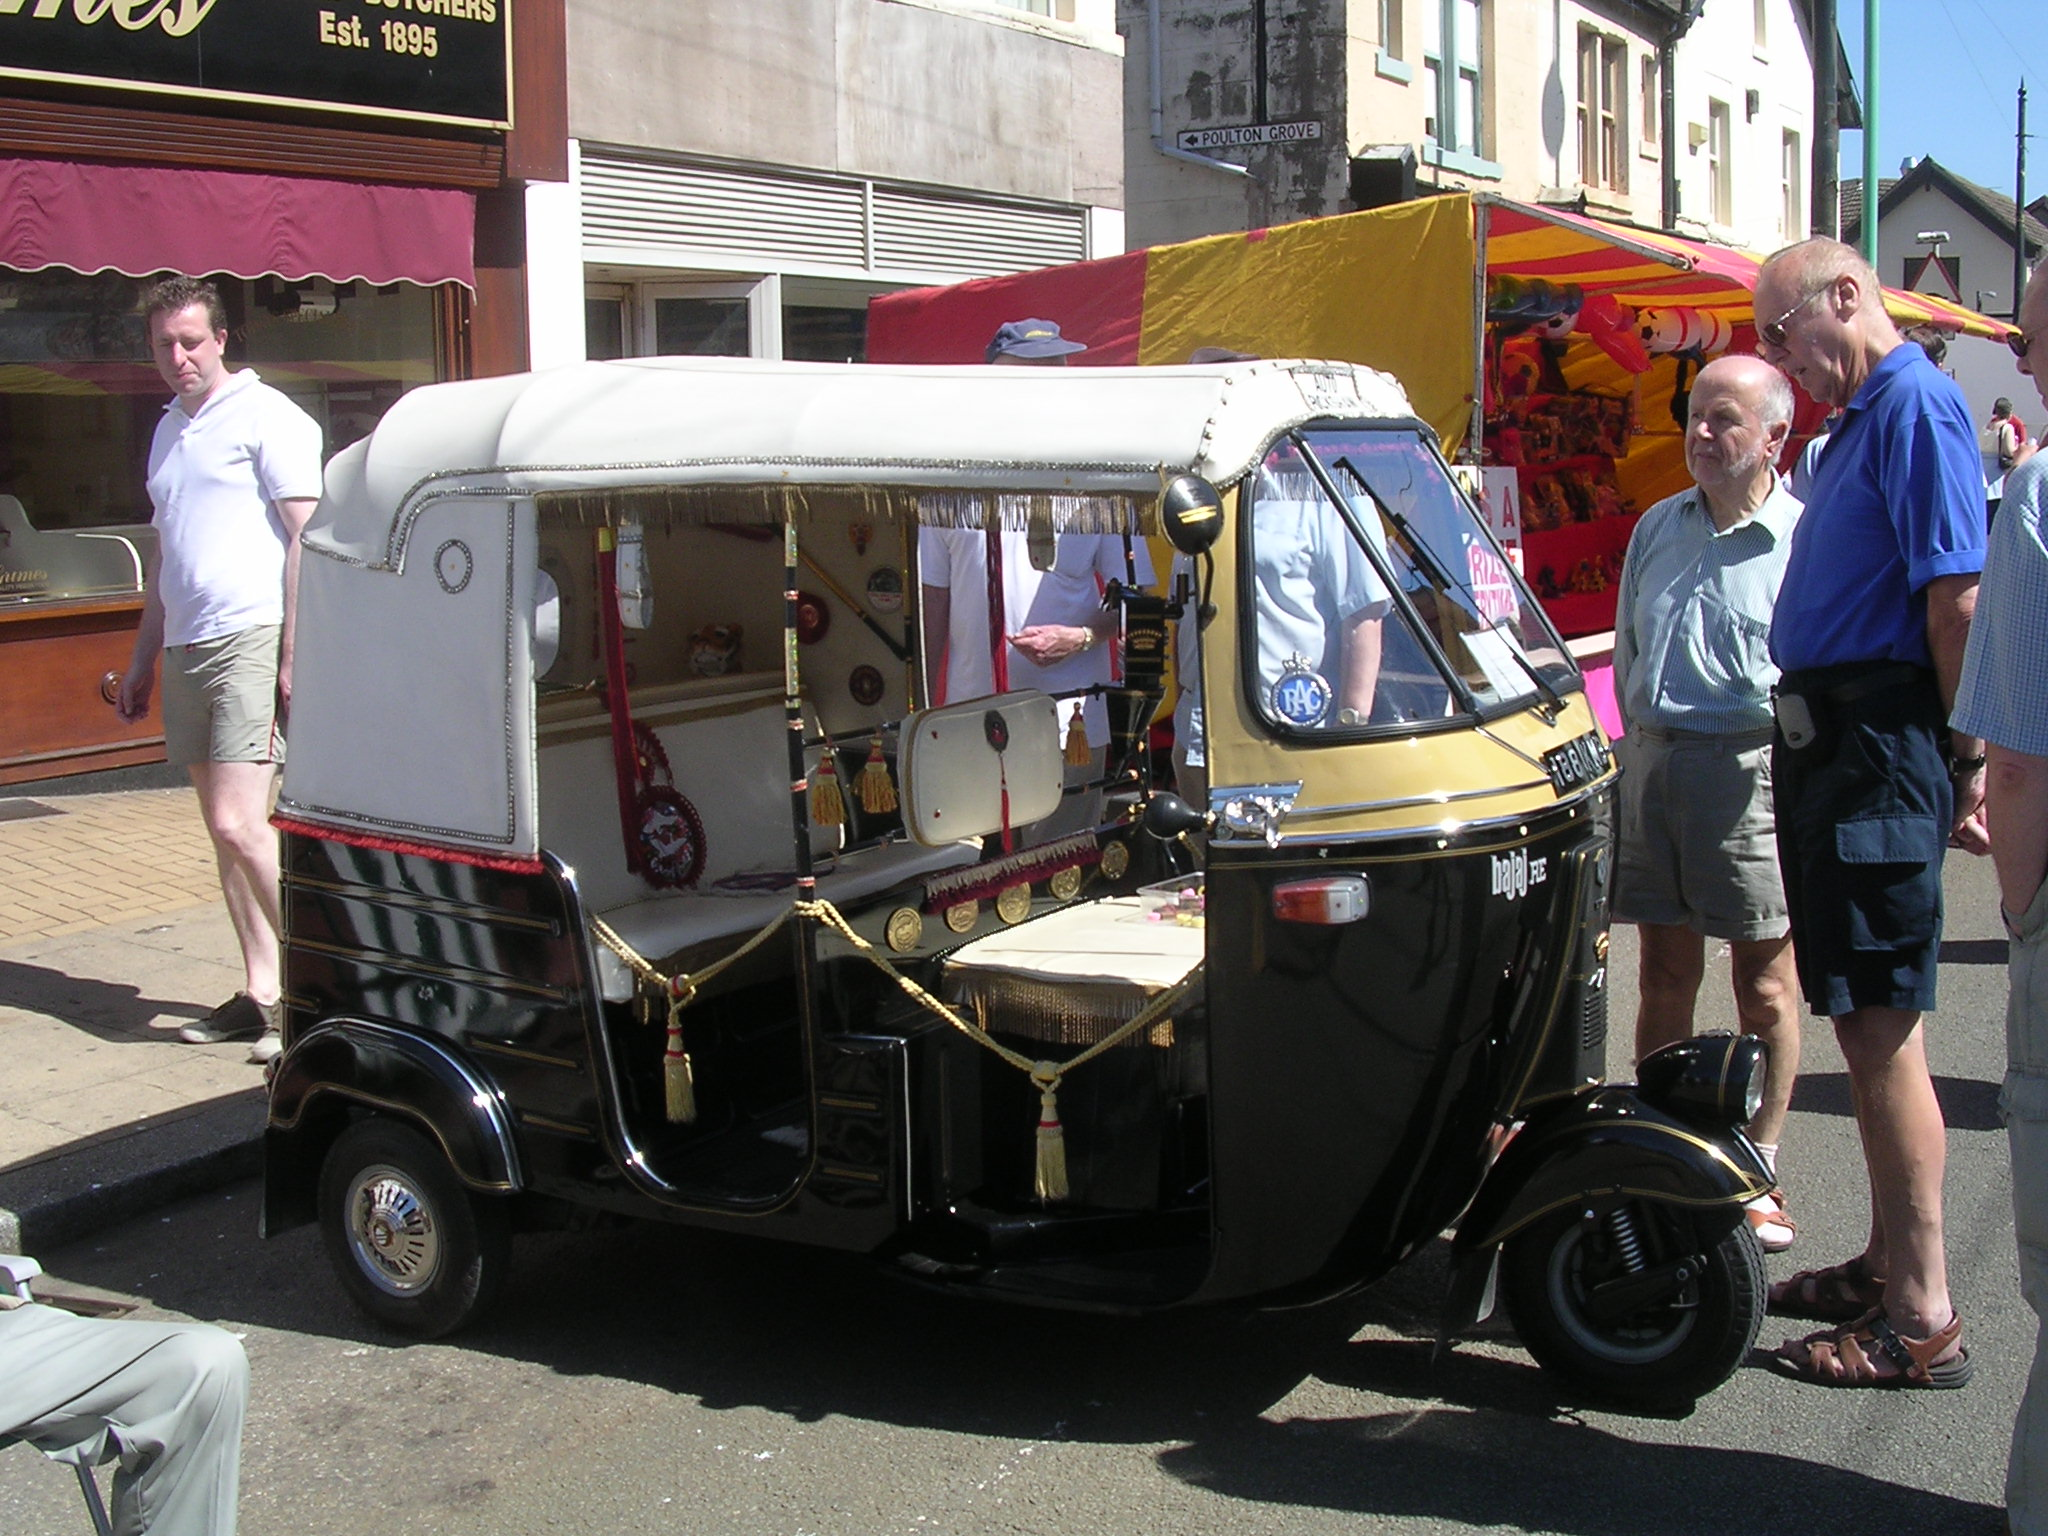auto: (269, 379, 1779, 1446)
